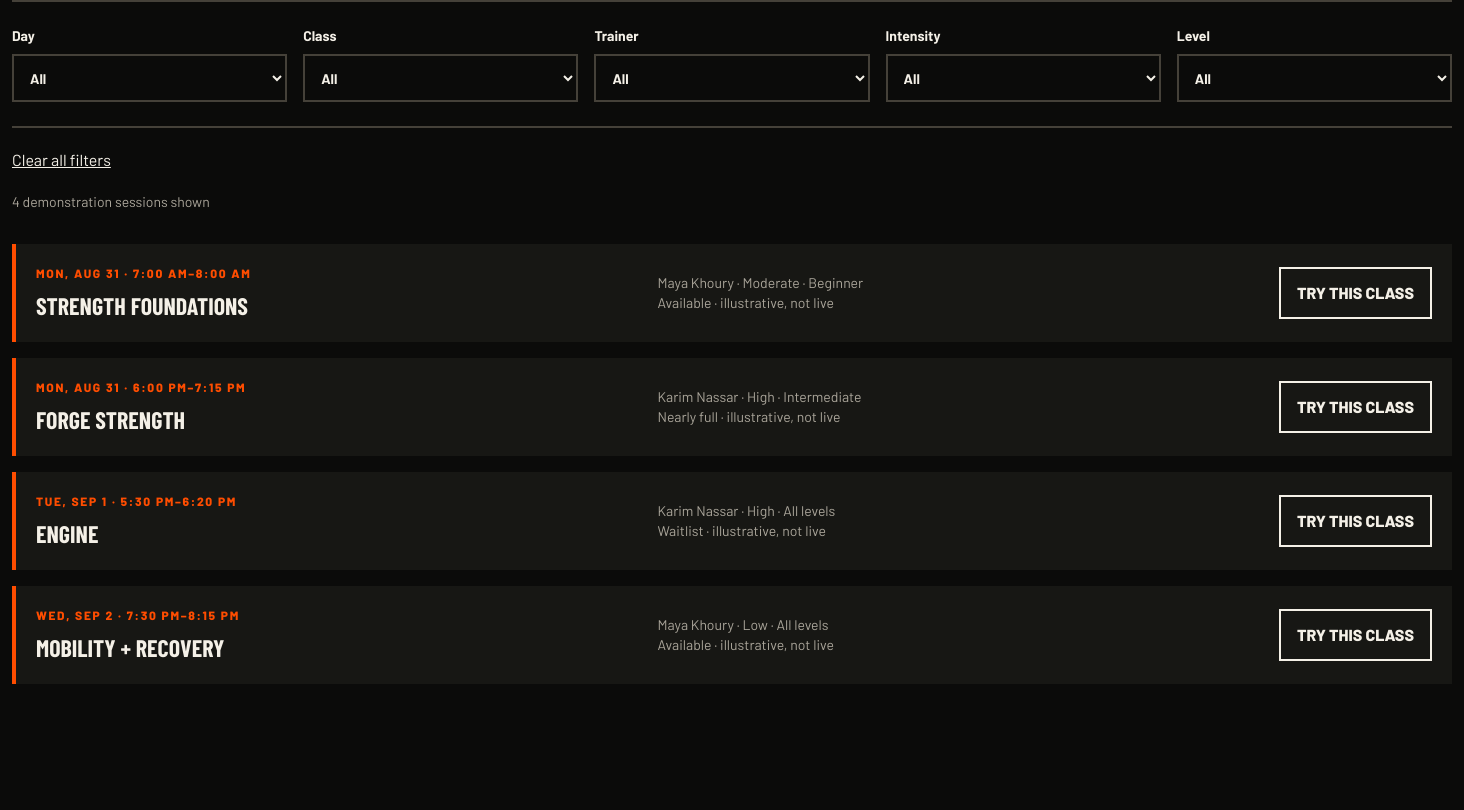
Test: interactive UI › shows and resets the schedule empty state
Select "Mobility + Recovery" in the dropdown labelled "Class" at (441, 78), box [303,54,578,102]
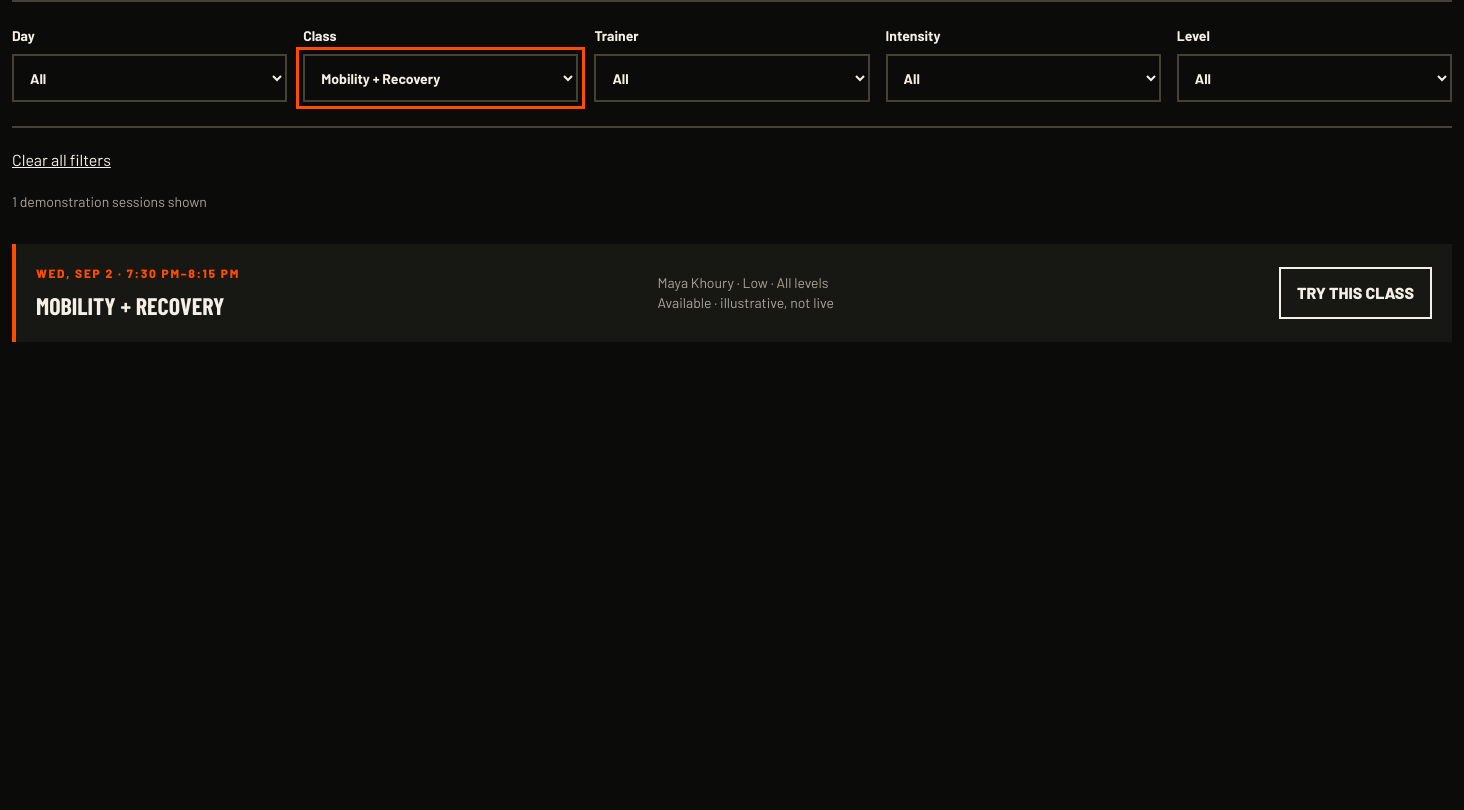
Select "Karim Nassar" in the dropdown labelled "Trainer" at (732, 78), box [594,54,870,102]
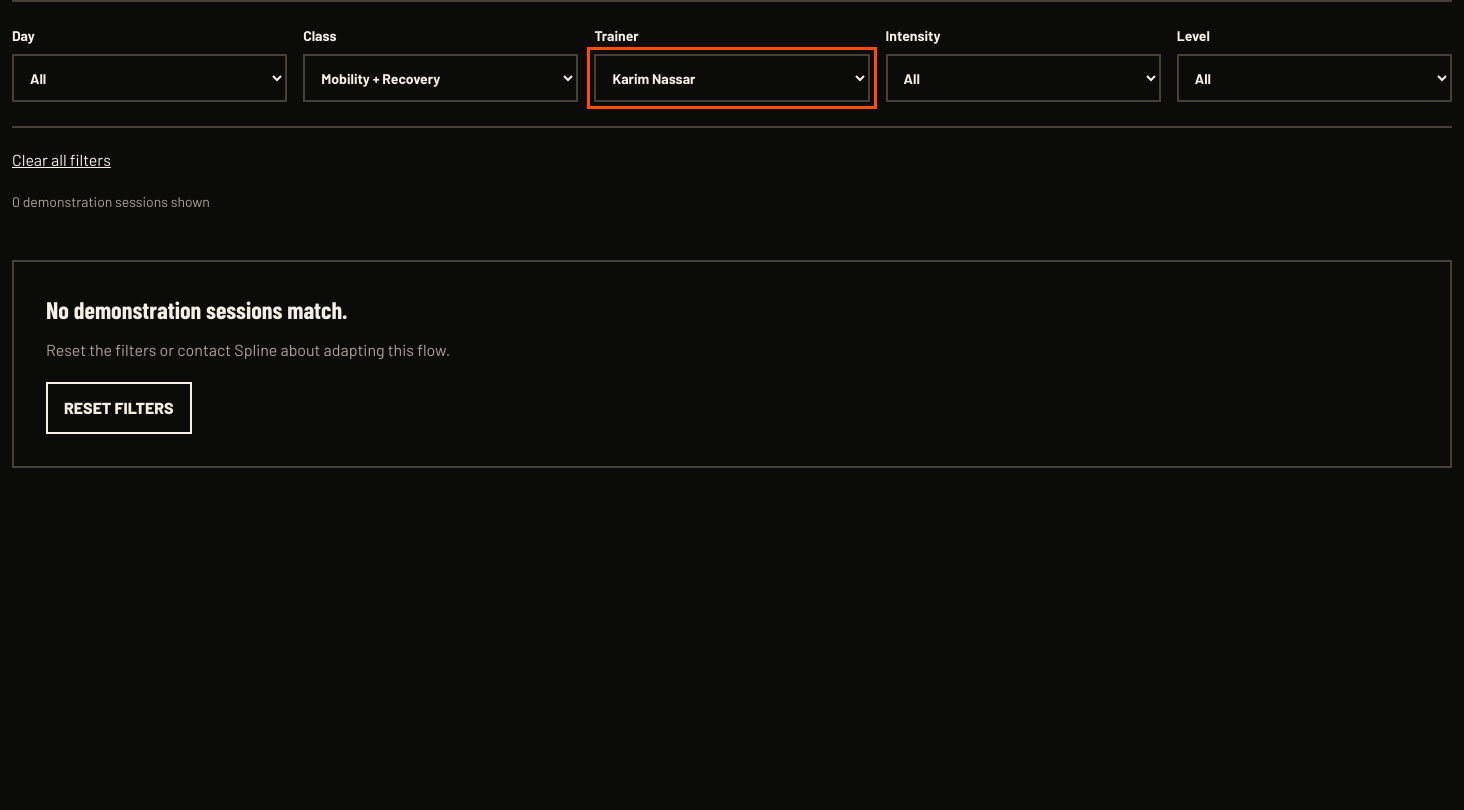
Check: the heading "No demonstration sessions match." is shown, box [46,295,347,324]
Click the button "Reset filters" at (119, 408), box [46,382,192,434]
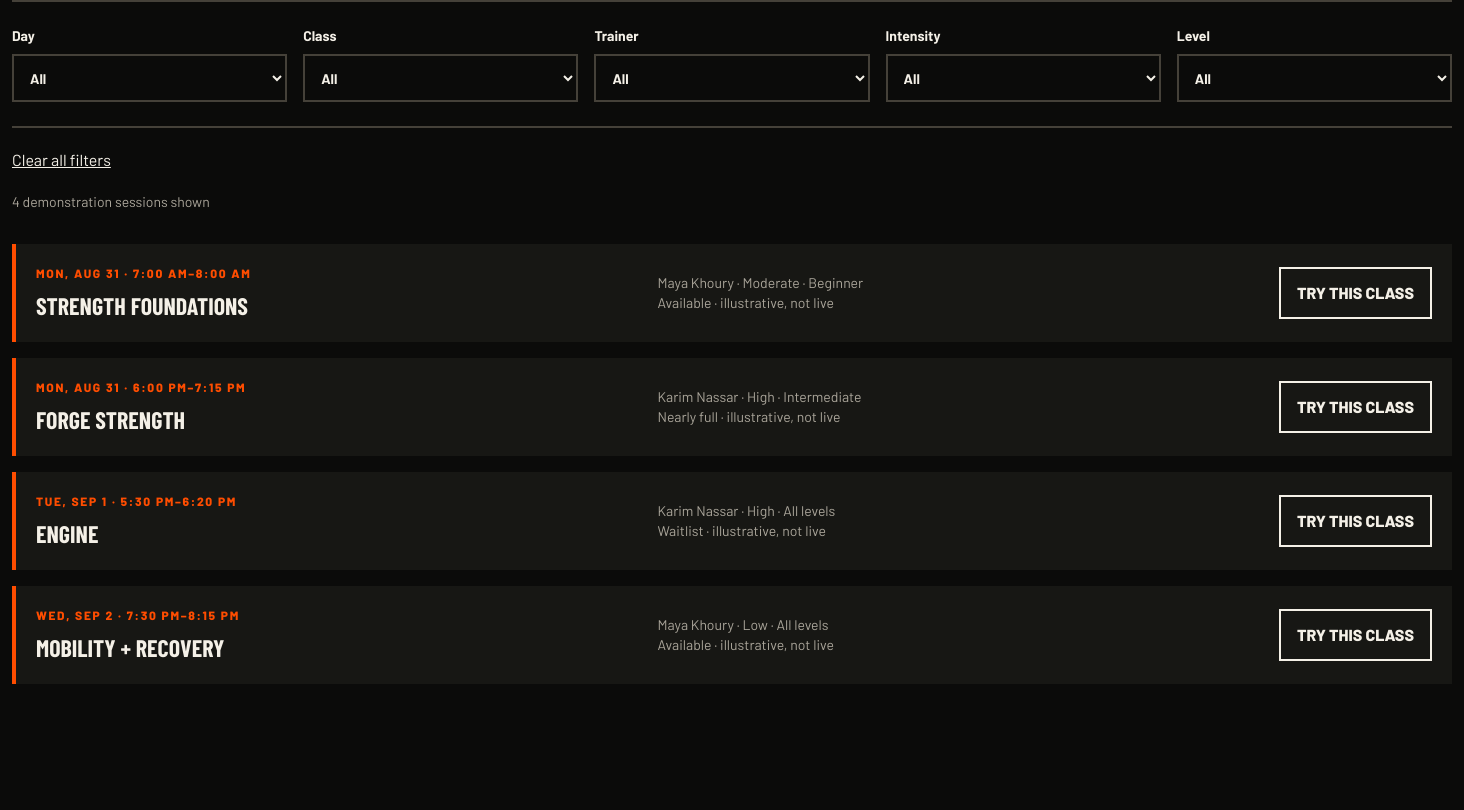
Check: the heading "No demonstration sessions match." is gone
